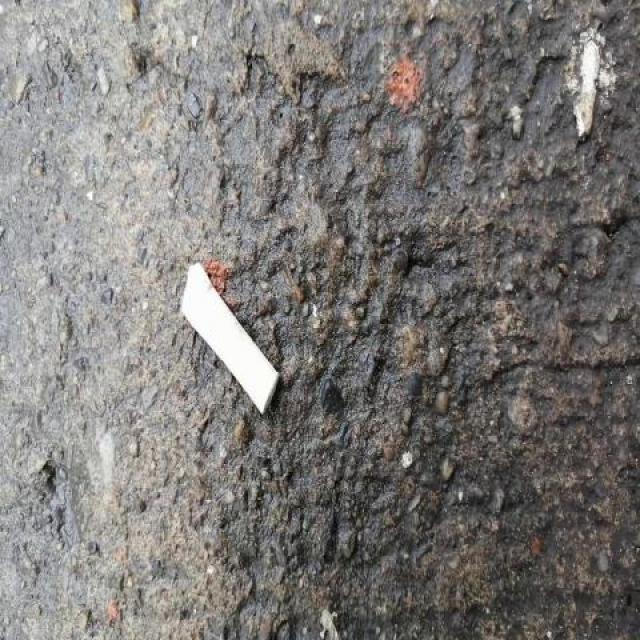non-organic waste: (178, 260, 282, 420)
